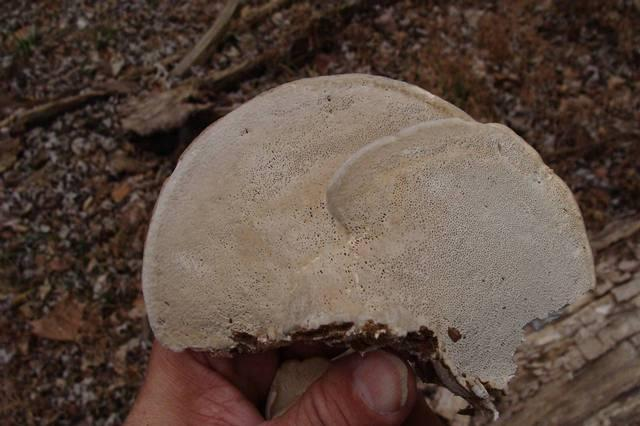poisonous_mushroom: (139, 71, 597, 424)
